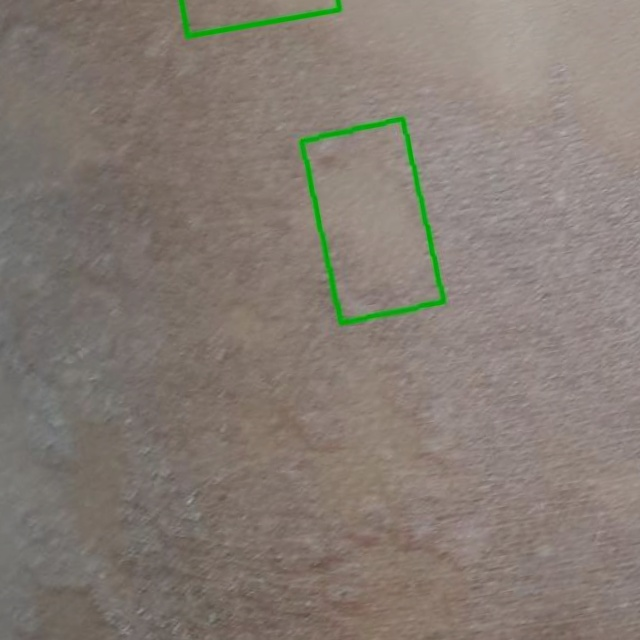Tinea Corporis: (301, 120, 442, 324)
